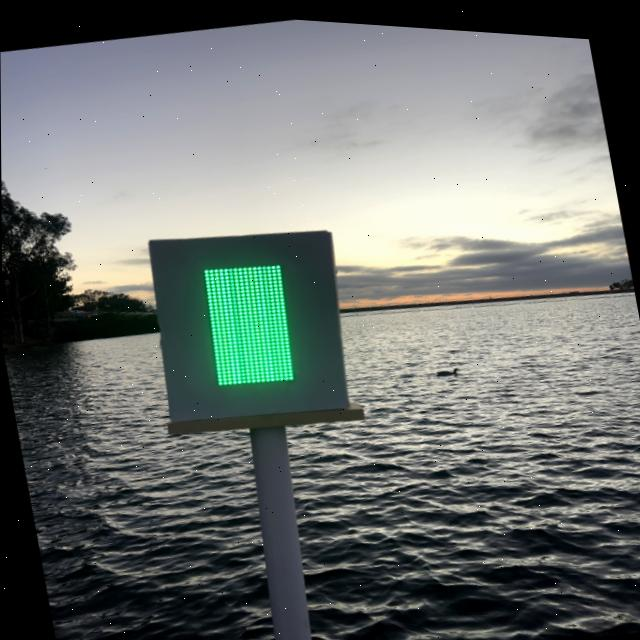led: (158, 218, 340, 429)
